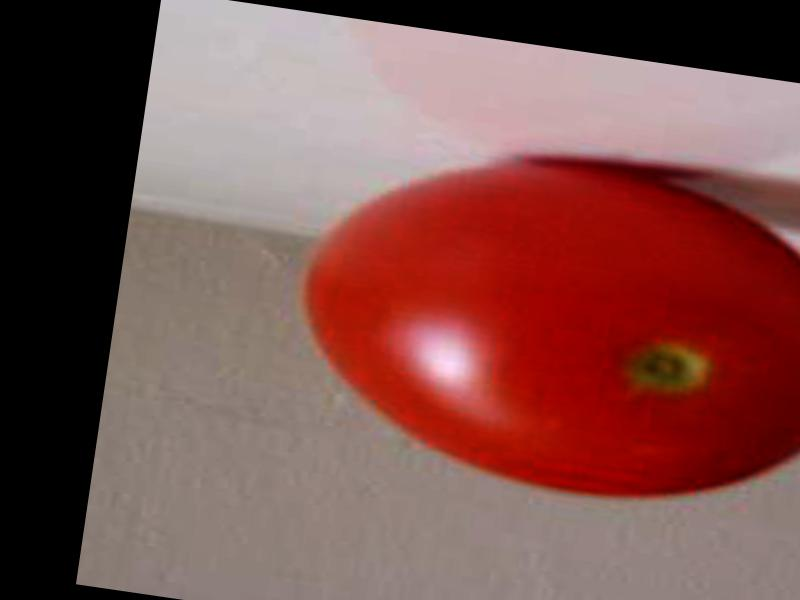Tomato: (281, 130, 800, 527)
